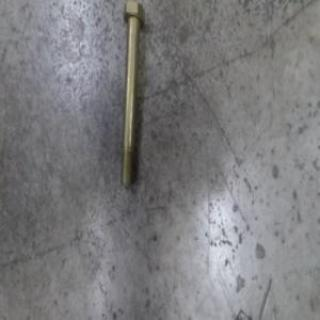Bolttrack_idkeyframe: (117, 0, 145, 189)
